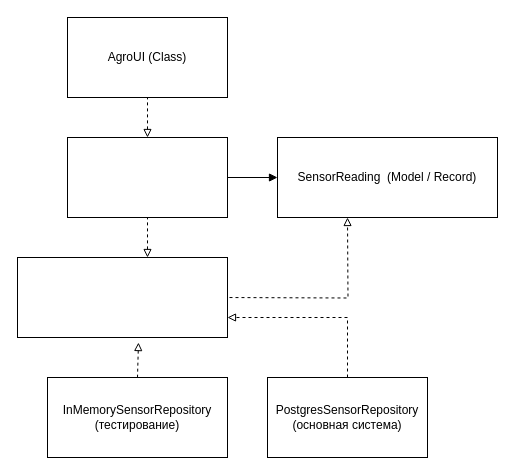
Image size: 515x475. Some labels were removed from this diagram. Here are the shapes that lost their labels. From the top down, the centre of each, then its label:
At point (147, 177): "SensorService (Class)".
At point (122, 297): "<<Interface>> SensorRepository".
